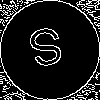S: (25, 25, 69, 78)
